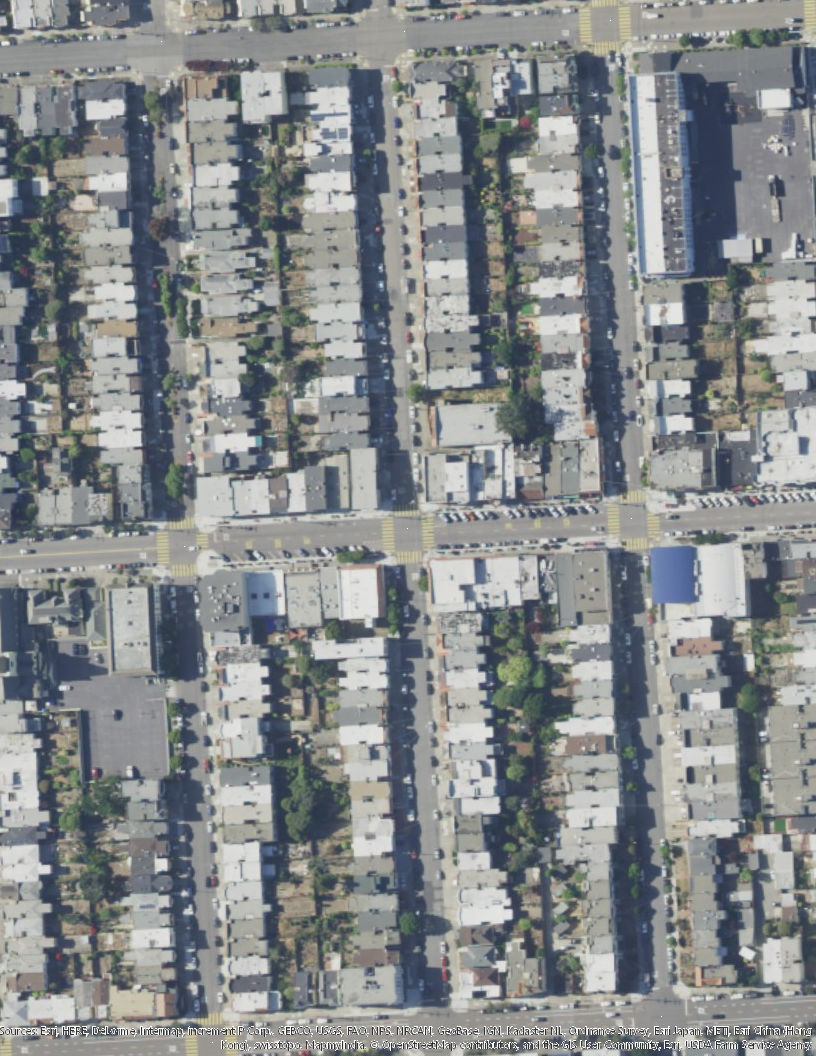zebracross: (420, 510, 437, 548), (617, 5, 635, 39), (618, 486, 648, 506), (578, 7, 593, 46), (592, 40, 626, 57), (166, 513, 196, 531), (605, 500, 620, 534), (156, 529, 169, 566), (393, 501, 421, 518), (801, 1, 816, 32), (383, 515, 396, 550), (396, 549, 426, 563), (194, 530, 209, 556), (170, 563, 196, 578), (194, 1012, 224, 1024), (623, 536, 649, 549), (647, 508, 660, 534), (591, 1, 619, 12), (185, 1036, 198, 1056)
